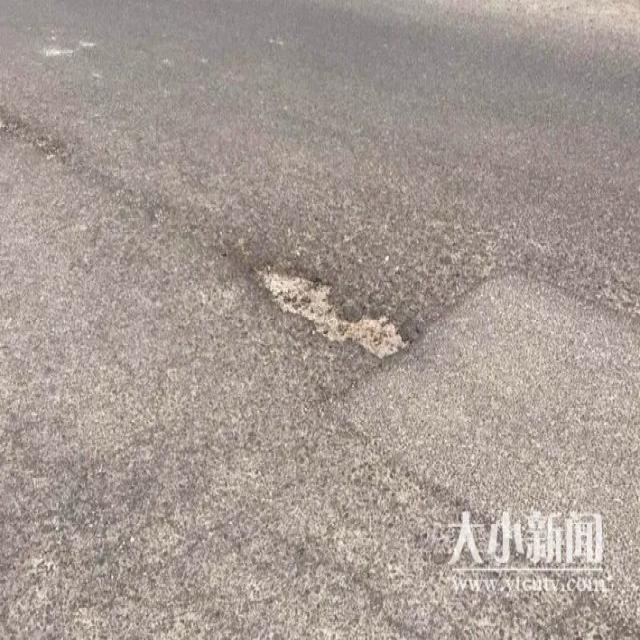Pothole: (246, 261, 421, 369)
